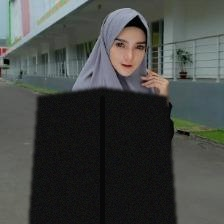Cadar_Niqab: (28, 8, 176, 224)
